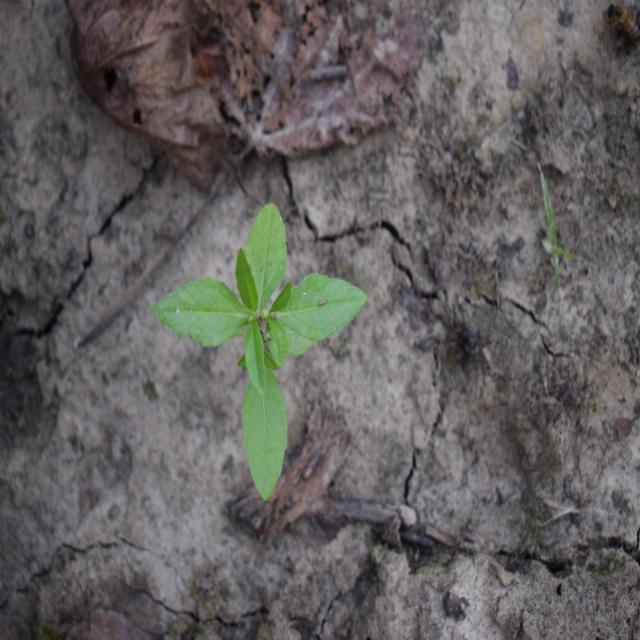Eclipta: (150, 202, 369, 502)
